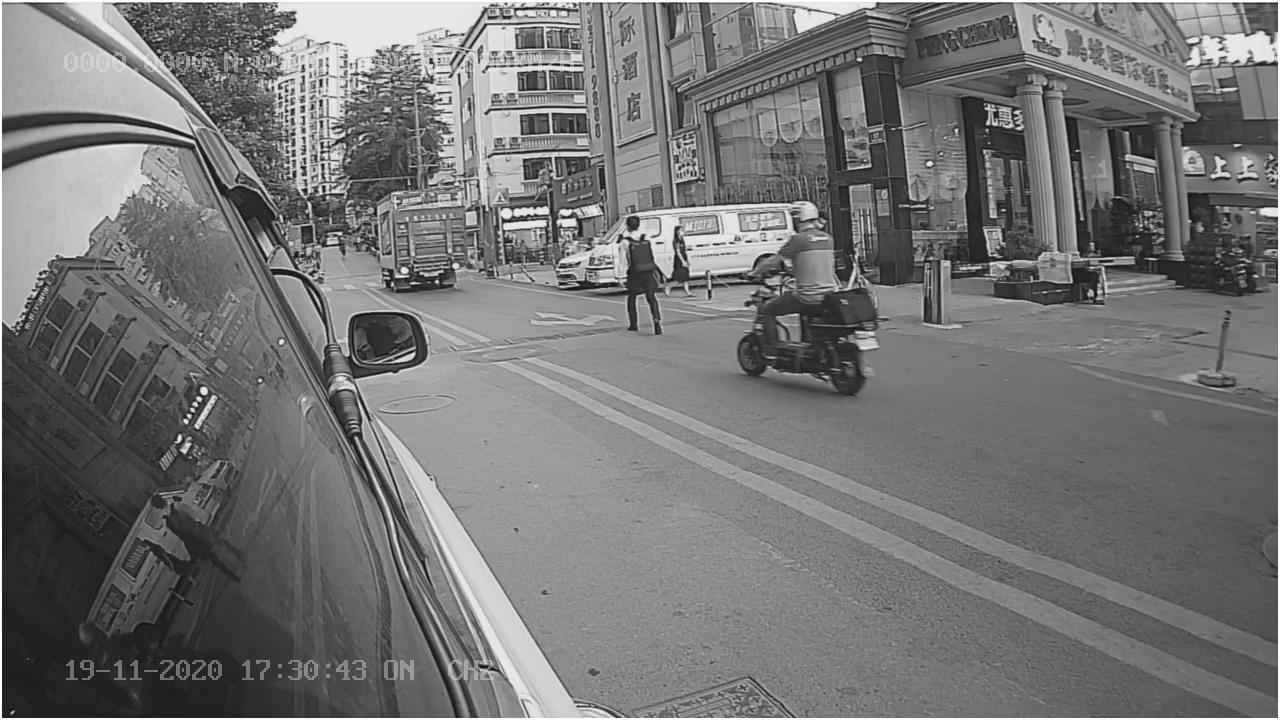person: (762, 194, 838, 283)
